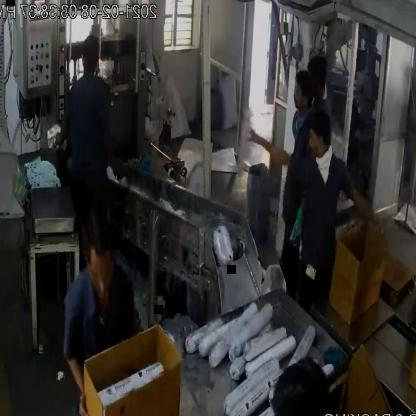no_glove: (342, 170, 387, 246), (242, 134, 300, 179), (61, 339, 93, 416)
